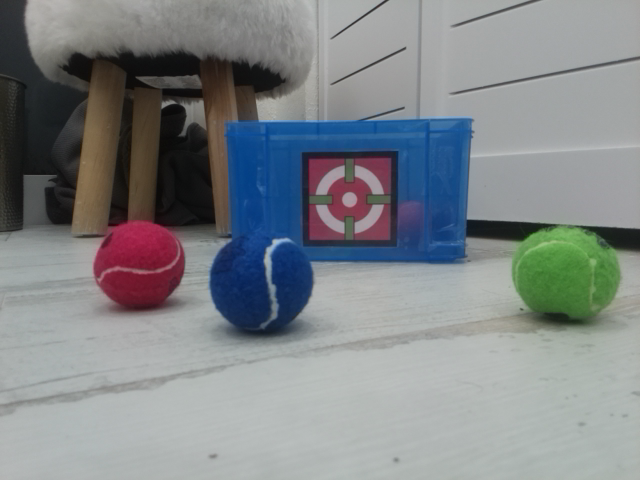blue-ball: (207, 228, 315, 335)
drop-bin: (301, 150, 399, 248)
green-ball: (511, 223, 621, 323)
red-ball: (92, 219, 186, 310)
